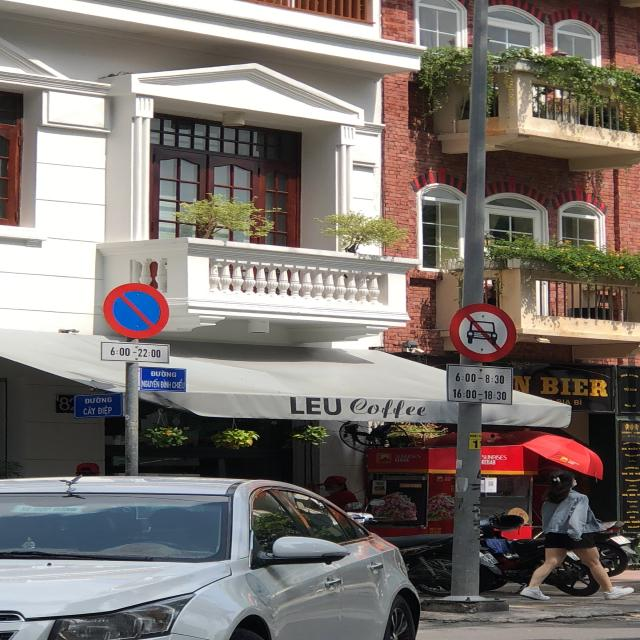Bien bao cam do xe: (96, 278, 187, 337)
Bien bao cam xe oto: (445, 296, 525, 362)
